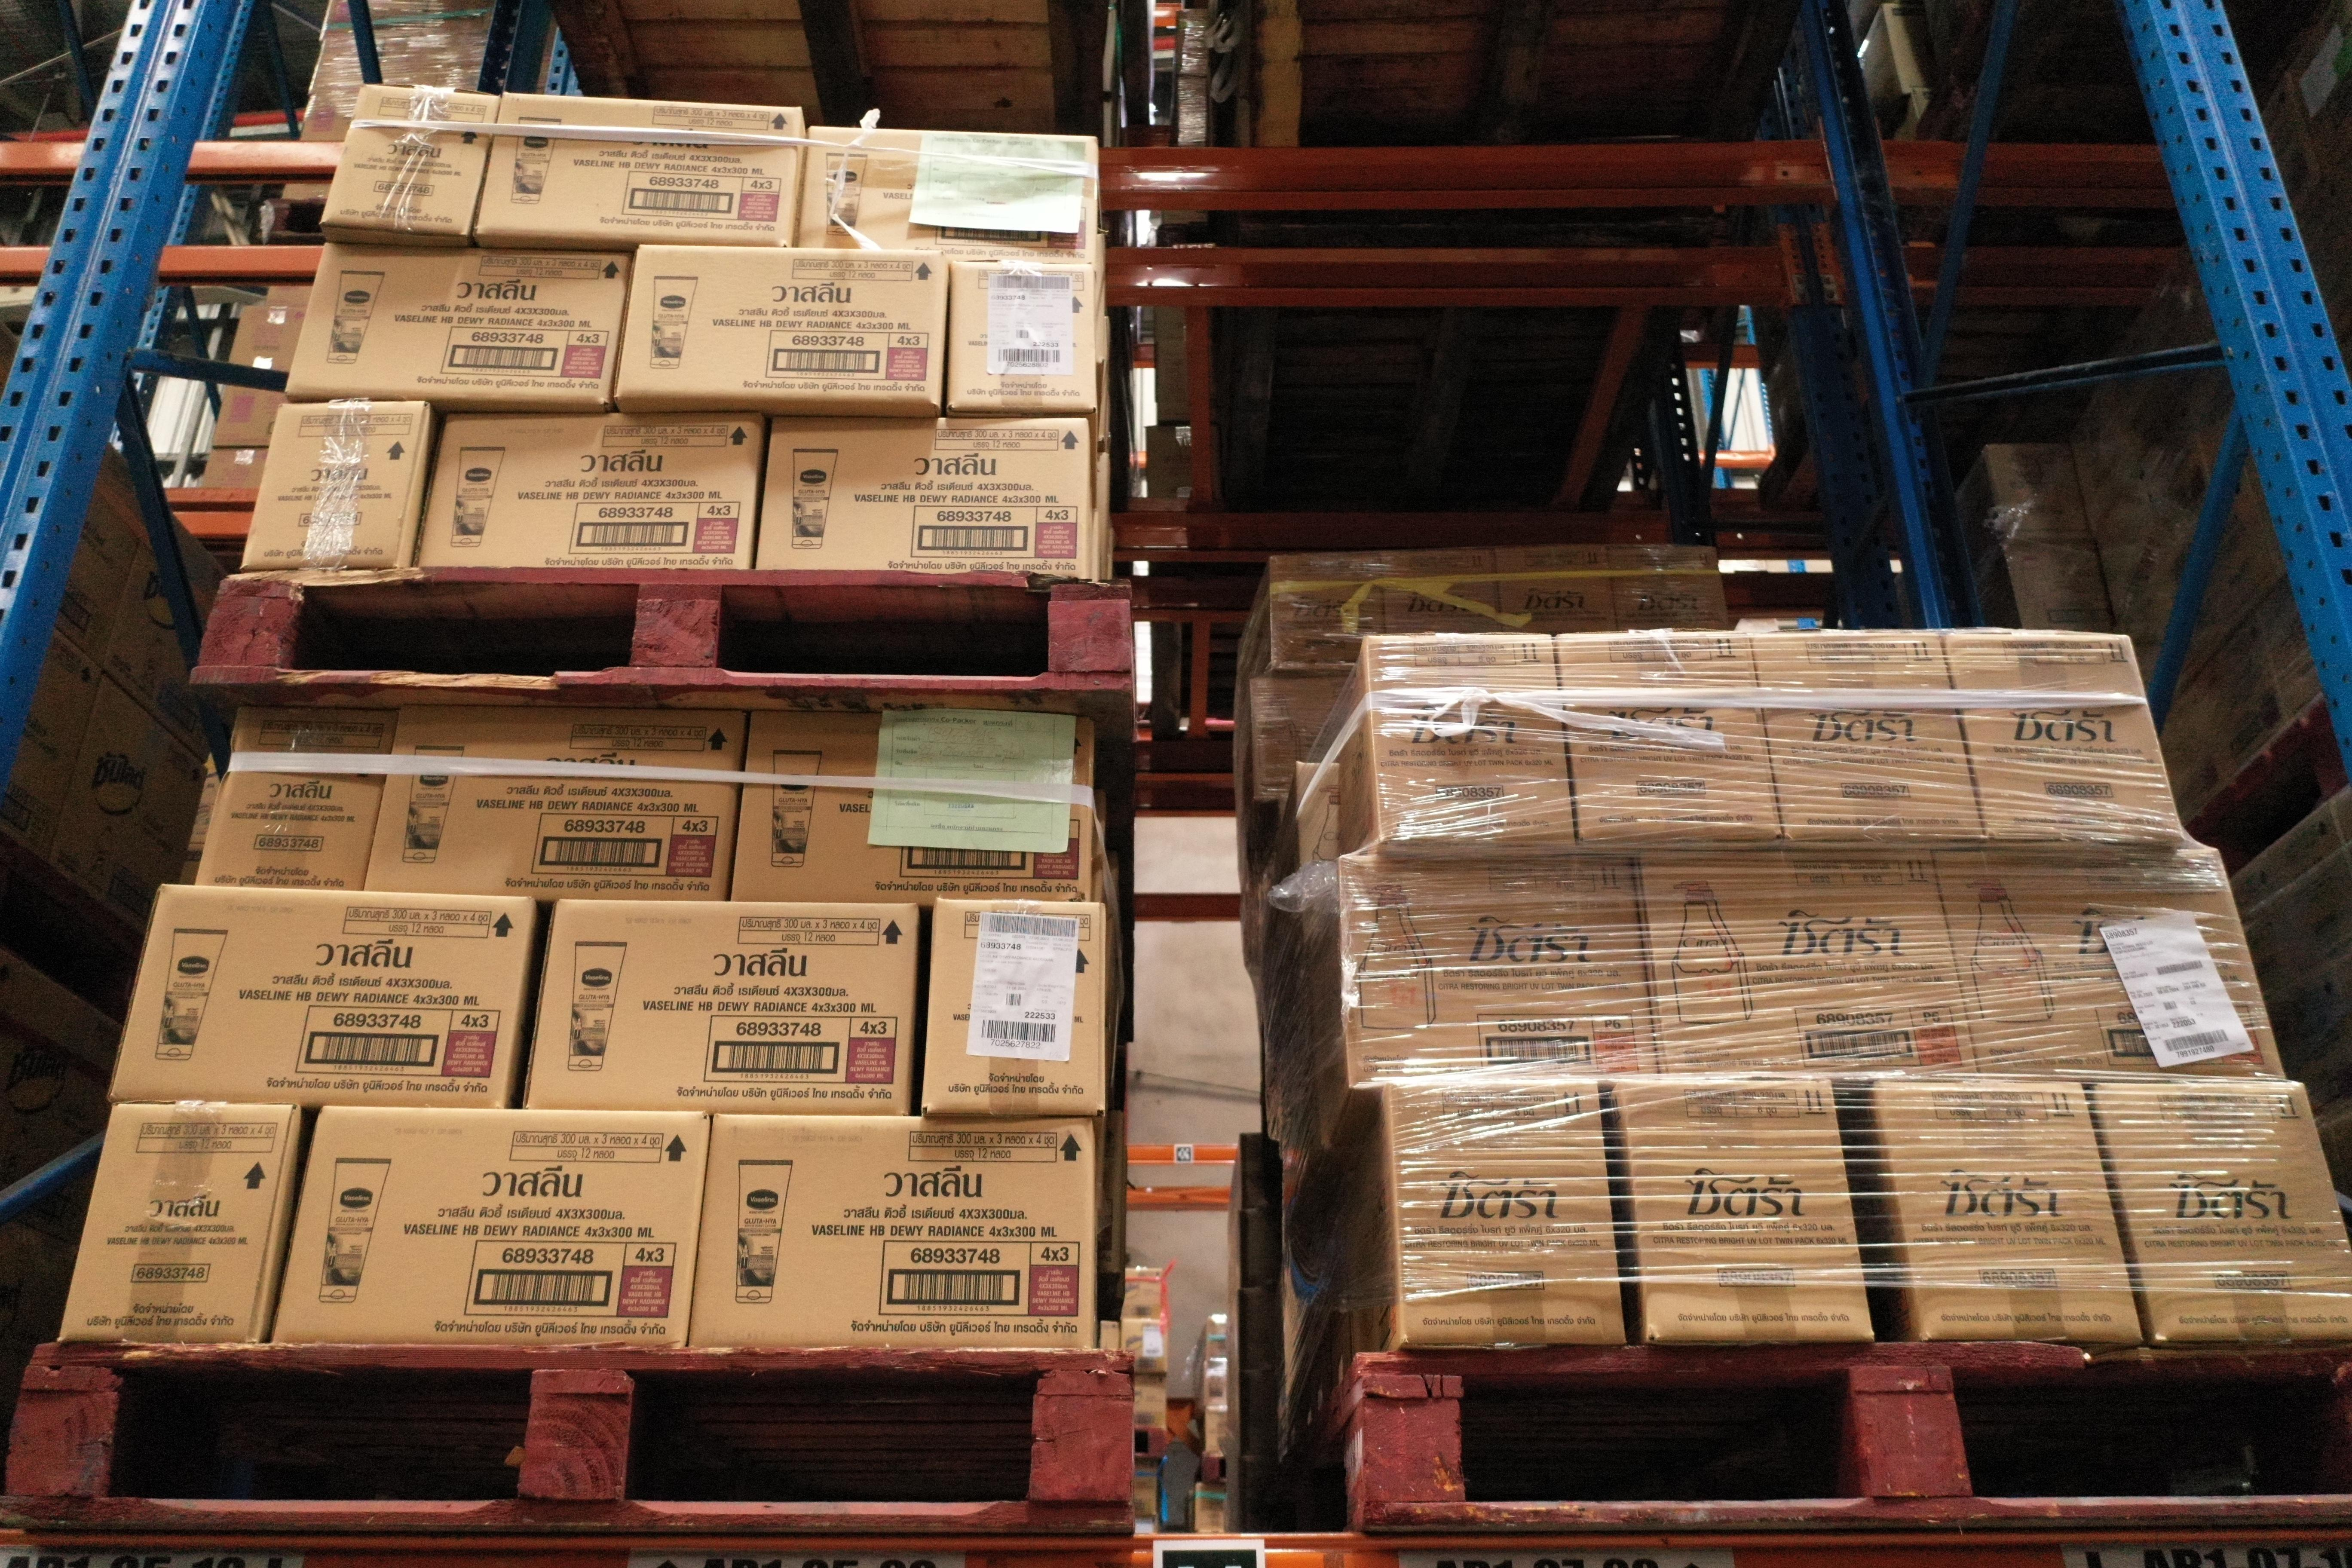-: (269, 1106, 714, 1349), (688, 1111, 1094, 1358), (110, 884, 535, 1113), (525, 894, 920, 1118), (1932, 847, 2289, 1087), (1631, 842, 1984, 1081), (359, 700, 751, 903), (1335, 849, 1664, 1090), (1869, 1076, 2147, 1340), (723, 709, 1095, 903), (1617, 1074, 1878, 1344), (2093, 1081, 2352, 1340), (1384, 1081, 1629, 1349), (282, 241, 633, 406), (58, 1102, 294, 1346), (415, 411, 759, 572), (609, 243, 952, 404), (752, 415, 1090, 577), (471, 87, 807, 248), (1942, 632, 2186, 842), (1750, 630, 1986, 838), (1556, 632, 1781, 842), (1365, 632, 1573, 849), (793, 122, 1101, 257), (920, 898, 1104, 1118), (191, 703, 399, 894), (238, 397, 430, 569), (320, 84, 502, 238), (945, 255, 1101, 411)
box: (1265, 548, 1386, 670), (1608, 544, 1731, 632), (1489, 548, 1613, 632), (1384, 549, 1500, 637)
